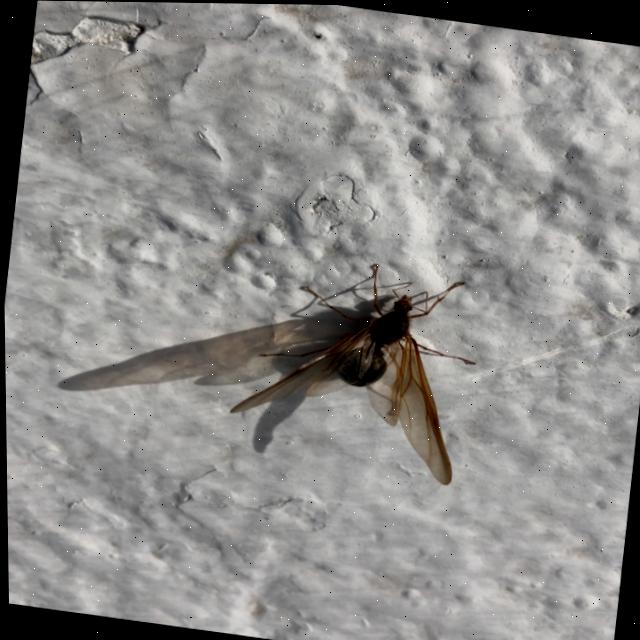Alive-Male-Alate: (220, 244, 487, 486)
